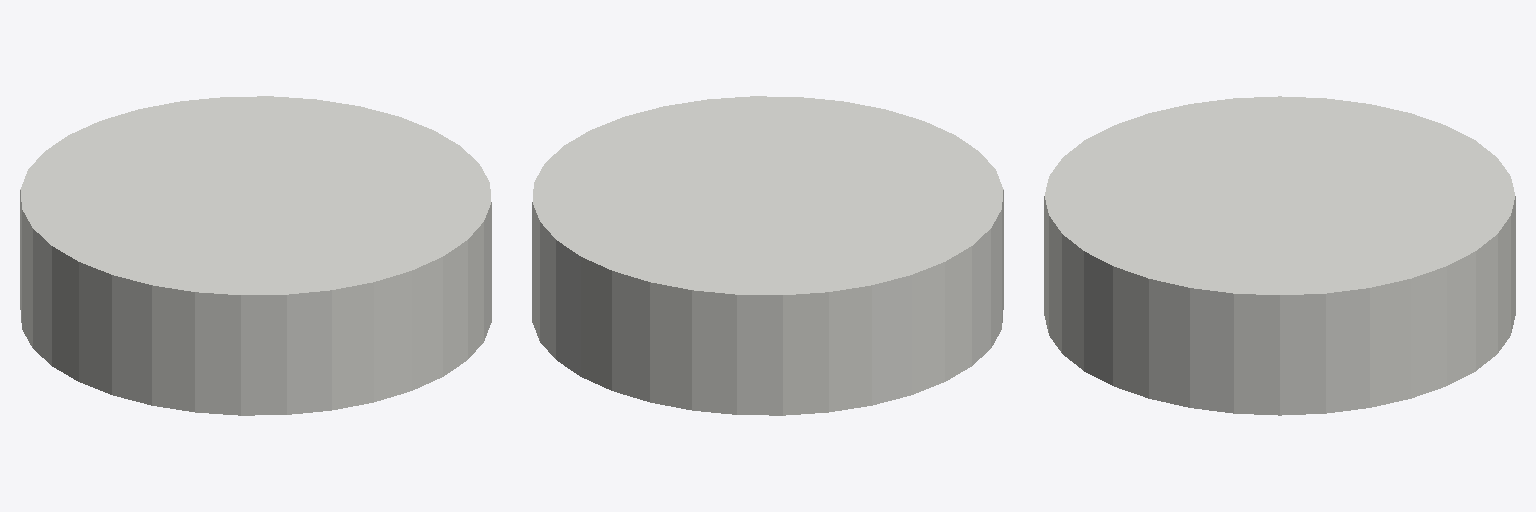
robot.urdf — turntable:
<?xml version="1.0"?>
<!-- PLACEHOLDER turntable: flat cylinder, dimensions guessed from the assignment
     photos (not measured). Origin = centre of its bottom face, standing on the table;
     "top" = centre of the top face, where the base plate is put. -->
<robot name="turntable">
  <material name="turntable_white"><color rgba="0.88 0.88 0.86 1.0"/></material>
  <link name="turntable_link">
    <visual>
      <origin xyz="0 0 0.0225"/>
      <geometry><cylinder radius="0.08" length="0.045"/></geometry>
      <material name="turntable_white"/>
    </visual>
    <collision>
      <origin xyz="0 0 0.0225"/>
      <geometry><cylinder radius="0.08" length="0.045"/></geometry>
    </collision>
  </link>
  <link name="top"/>
  <joint name="turntable_link_to_top" type="fixed">
    <parent link="turntable_link"/><child link="top"/>
    <origin xyz="0 0 0.045"/>
  </joint>
</robot>

--- Render facts (derived) ---
The picture shows the robot from 3 angles, left to right: view 1: azimuth 30°, elevation 25°; view 2: azimuth 150°, elevation 25°; view 3: azimuth 270°, elevation 25°; orthographic projection.
Robot: turntable — 2 links, 1 joints (1 fixed); root link turntable_link; default pose: all joints at 0.
Visible links, largest first — view 1: turntable_link; view 2: turntable_link; view 3: turntable_link.
Link boxes in pixels (bbox=[...]): turntable_link: bbox=[20, 96, 491, 415]; turntable_link: bbox=[532, 96, 1003, 415]; turntable_link: bbox=[1044, 96, 1515, 415].
Size in the robot's own frame: 0.16 by 0.16 by 0.045 metres.
Geometry: primitives only (box / cylinder / sphere), no mesh files.
